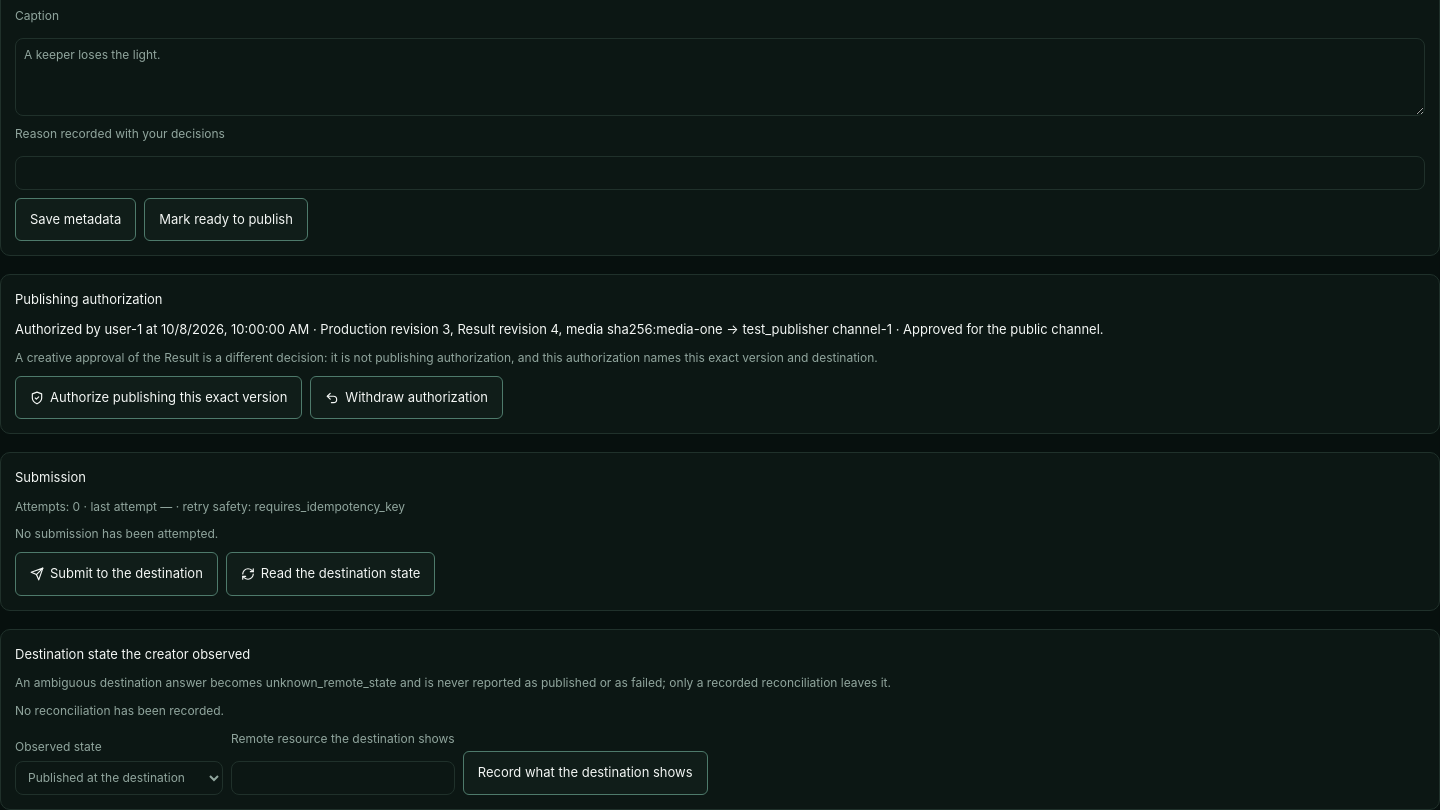
Test: publishing › submits through the API and reports the destination result, not a local claim
(page scrolled)
Click the button "Submit to the destination". click: (116, 574)
box: [15,552,218,596]
(page scrolled)
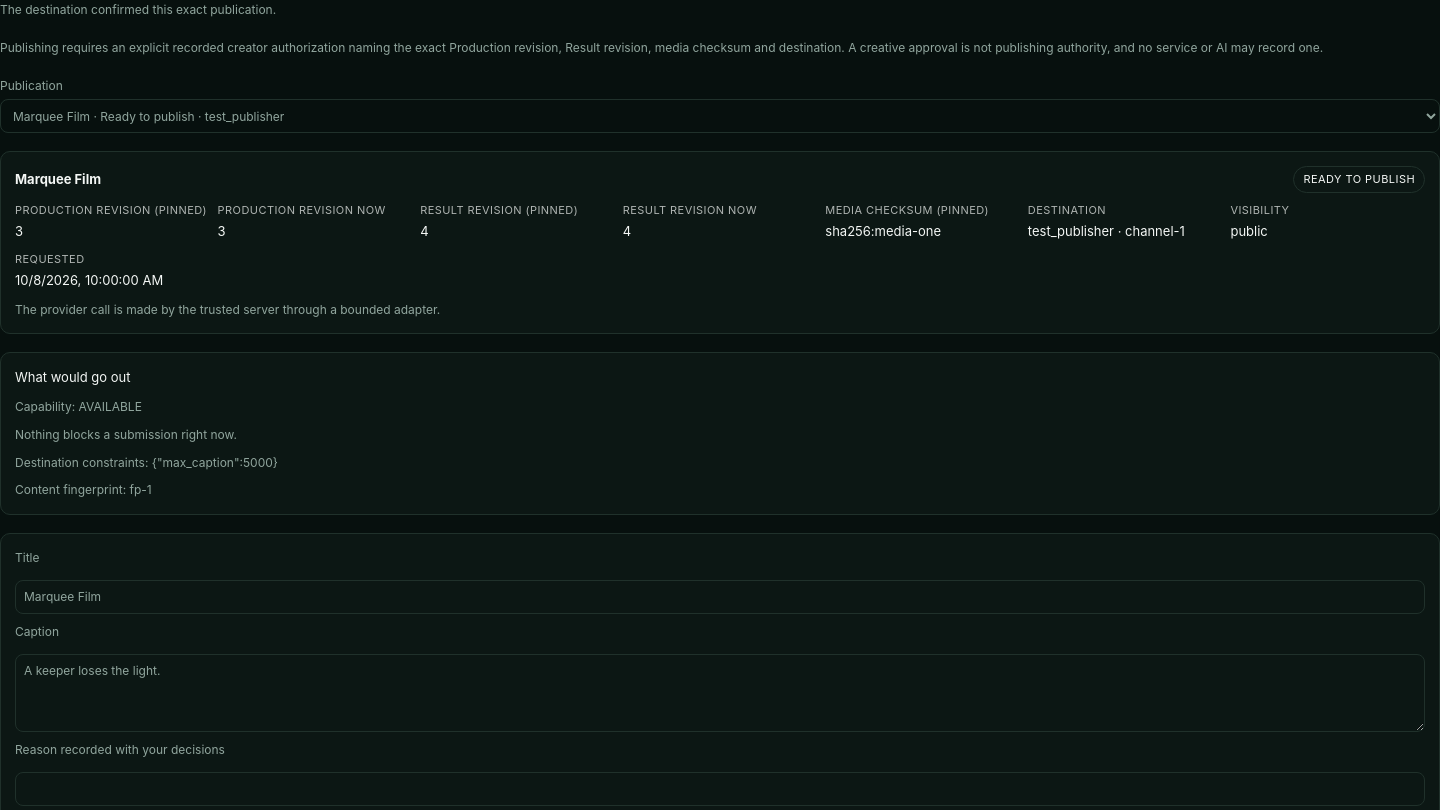
Check: the text "The destination confirmed this exact publication." is shown, box [0,2,276,17]
